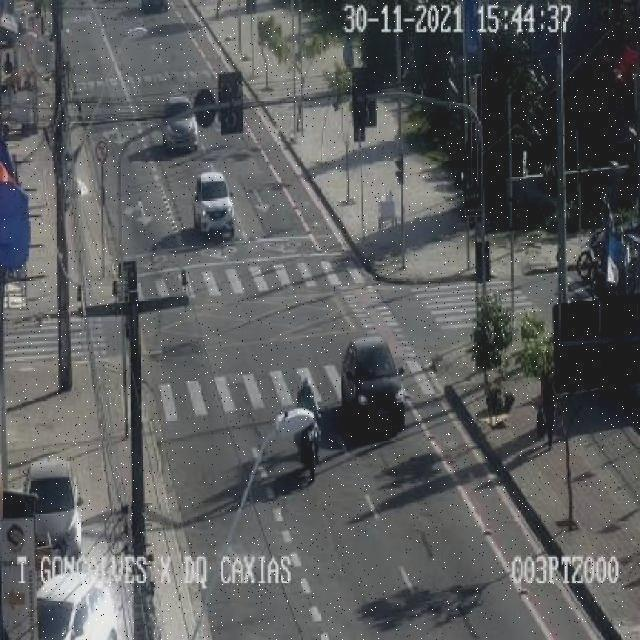Car: (335, 327, 412, 443), (21, 454, 88, 558), (22, 574, 116, 640), (149, 91, 207, 160), (189, 175, 240, 244)
Cycle: (284, 383, 330, 467), (564, 231, 618, 296)
